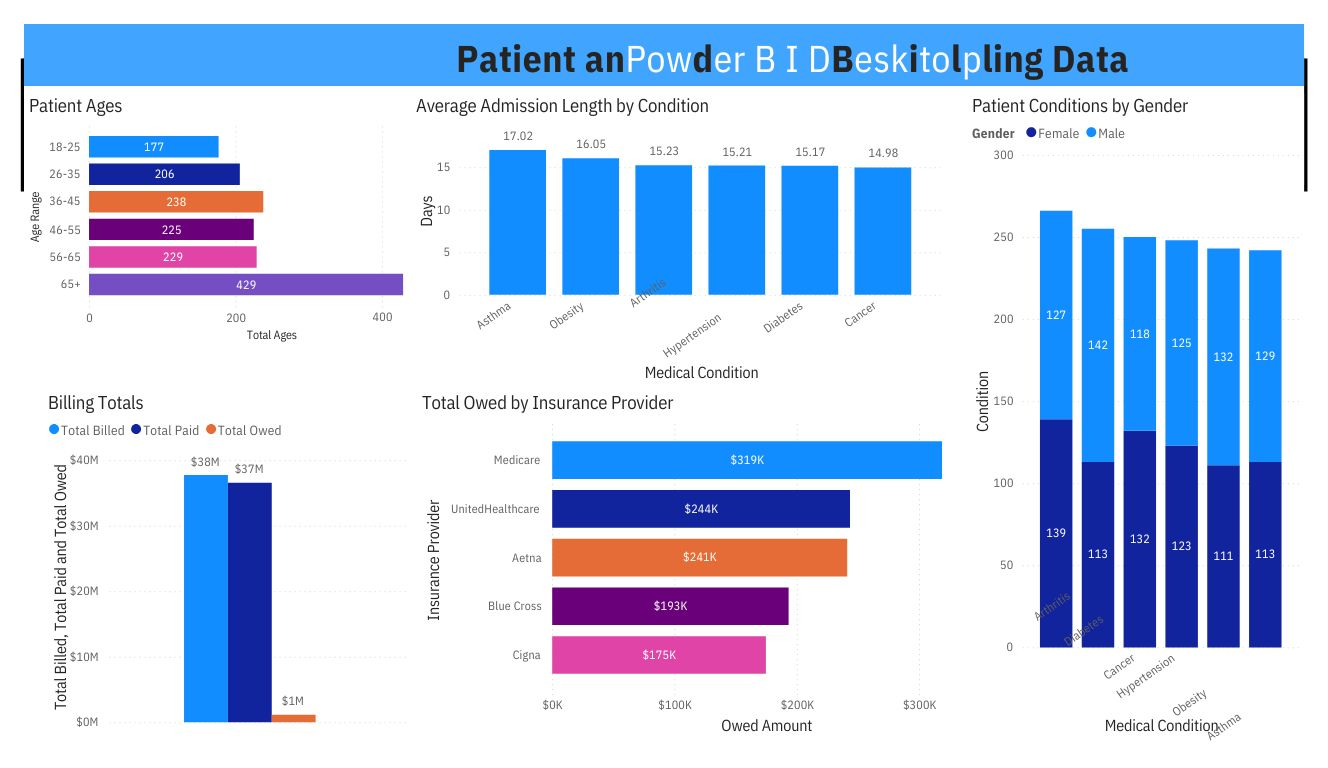

The dashboard page shown, as its layout file describes it:
{"tool":"powerbi","page":{"name":"Page 1","canvas":[1280,720],"ordinal":0},"visuals":[{"type":"barChart","title":"Patient Ages","fields":{"Category":["healthcare_dataset.Age Range"],"Y":["CountNonNull(healthcare_dataset.Age Range)"],"Series":["healthcare_dataset.Age Range"]},"box":[0,68.7,446.3,252.6],"z":0},{"type":"barChart","title":"Total Owed by Insurance Provider","fields":{"Category":["healthcare_dataset.Insurance Provider"],"Y":["healthcare_dataset.Owed Amount"],"Series":["healthcare_dataset.Insurance Provider"]},"box":[393.3,365.8,585,347.5],"z":1000},{"type":"clusteredColumnChart","title":"Billing Totals","fields":{"Y":["Sum(healthcare_dataset.Billing Amount)","Sum(healthcare_dataset.Paid Amount)","healthcare_dataset.Owed Amount"]},"box":[19,365.8,368.4,347.5],"z":2000},{"type":"columnChart","title":"Patient Conditions by Gender","fields":{"Category":["healthcare_dataset.Medical Condition"],"Y":["CountNonNull(healthcare_dataset.Medical Condition)"],"Series":["healthcare_dataset.Gender"]},"box":[943,68.7,337,644.6],"z":3000},{"type":"clusteredColumnChart","title":"Average Admission Length by Condition","fields":{"Category":["healthcare_dataset.Medical Condition"],"Y":["Avg(healthcare_dataset.Length of Admission)"]},"box":[387.4,68.7,535.3,291.2],"z":4000},{"type":"textbox","box":[0,0,1280,61.5],"z":5000}]}

Visuals, with their boxes in screenshot pixels (x1, y1, x2, y2), scaled from the page's 1280x720 canvas onto the 1328x768 screenshot:
"Patient Ages" barChart: (x1=0, y1=73, x2=463, y2=343)
"Total Owed by Insurance Provider" barChart: (x1=408, y1=390, x2=1015, y2=761)
"Billing Totals" clusteredColumnChart: (x1=20, y1=390, x2=402, y2=761)
"Patient Conditions by Gender" columnChart: (x1=978, y1=73, x2=1327, y2=761)
"Average Admission Length by Condition" clusteredColumnChart: (x1=402, y1=73, x2=957, y2=384)
textbox: (x1=0, y1=0, x2=1327, y2=66)
